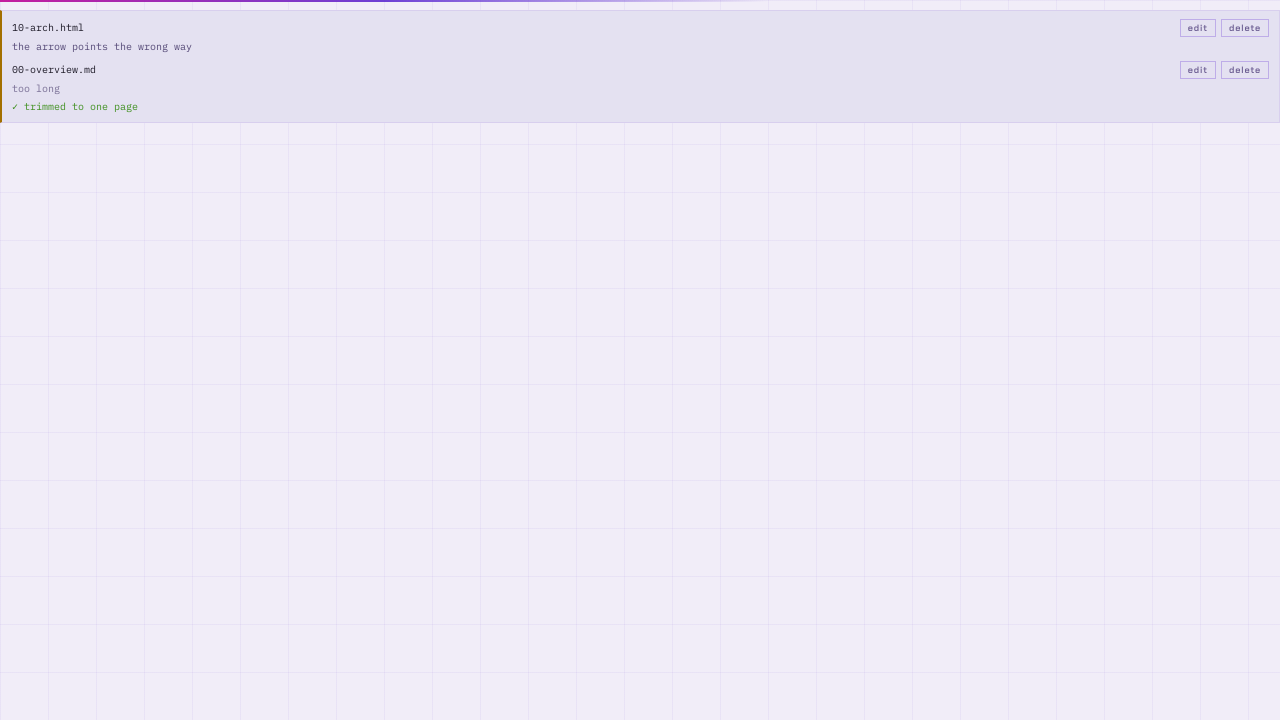
Scenario: FeedbackPanel › keeps the editor (and the typed text) open when the save fails
The image size is (1280, 720).
Click the button with class "fb-edit" in the row of "10-arch.html": (1198, 28) left=1180, top=19, right=1216, bottom=37
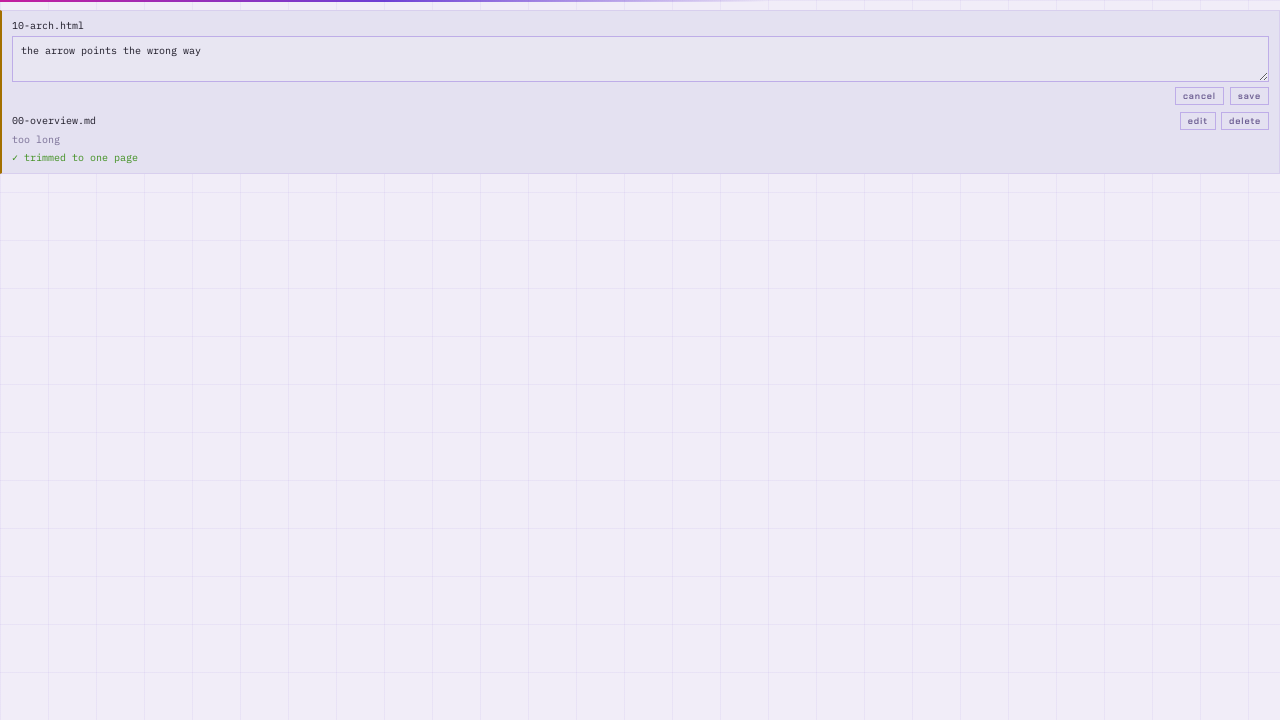
In the text box with class "fb-edit-input": (640, 59) left=12, top=36, right=1269, bottom=82, type "!"
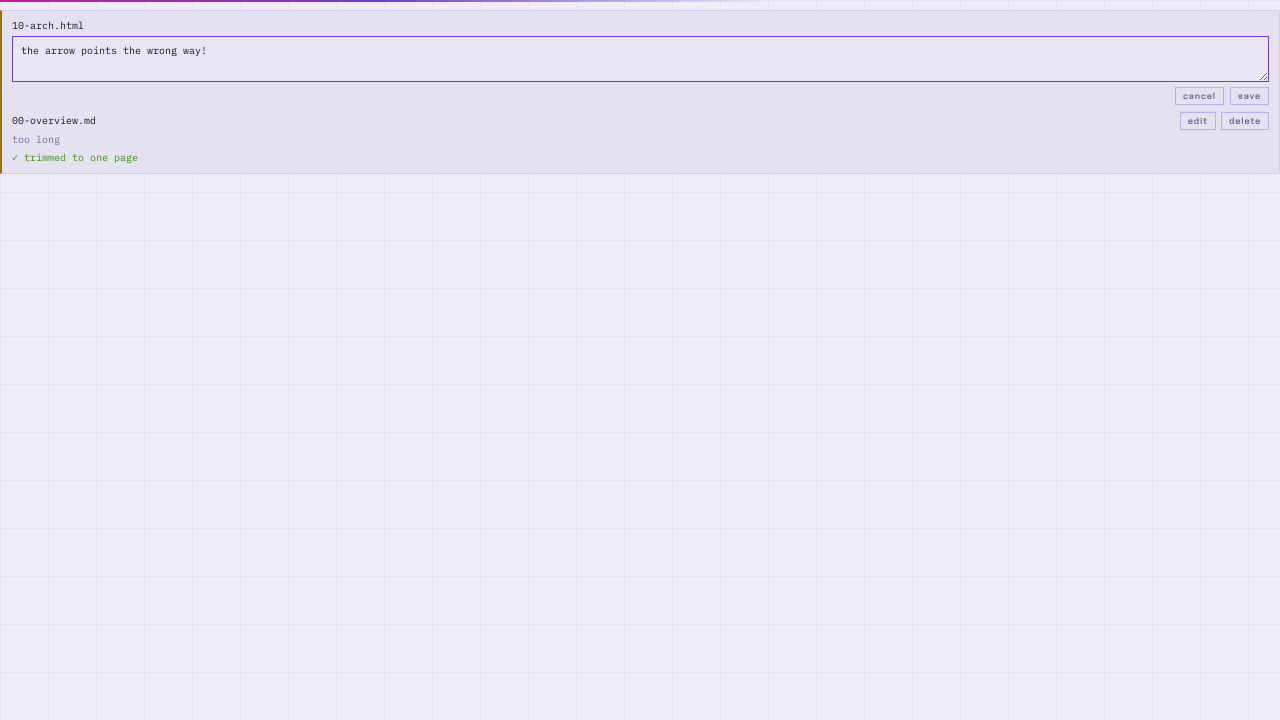
Click the button with class "fb-save": (1250, 96) left=1230, top=87, right=1269, bottom=105
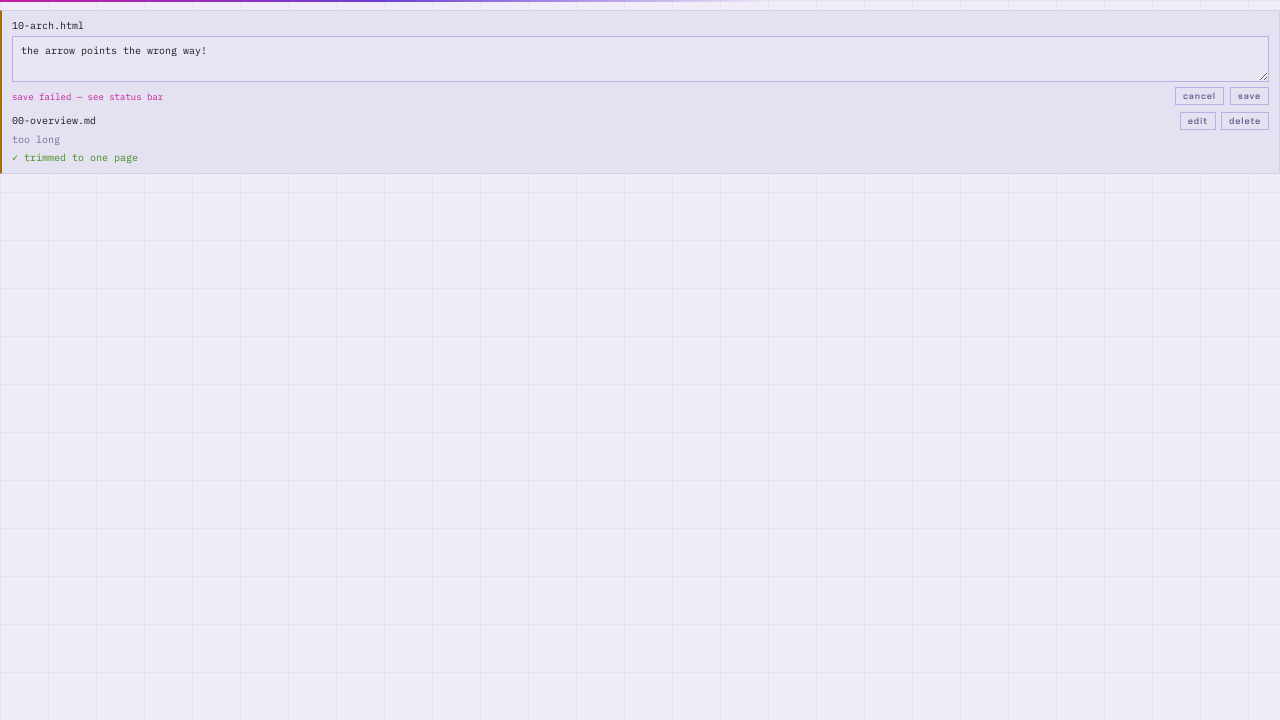
expect the text box with class "fb-edit-input" holds "the arrow points the wrong way!": met, box left=12, top=36, right=1269, bottom=82
expect the text with class "fb-edit-note" shows "save failed": met, box left=12, top=90, right=163, bottom=102
